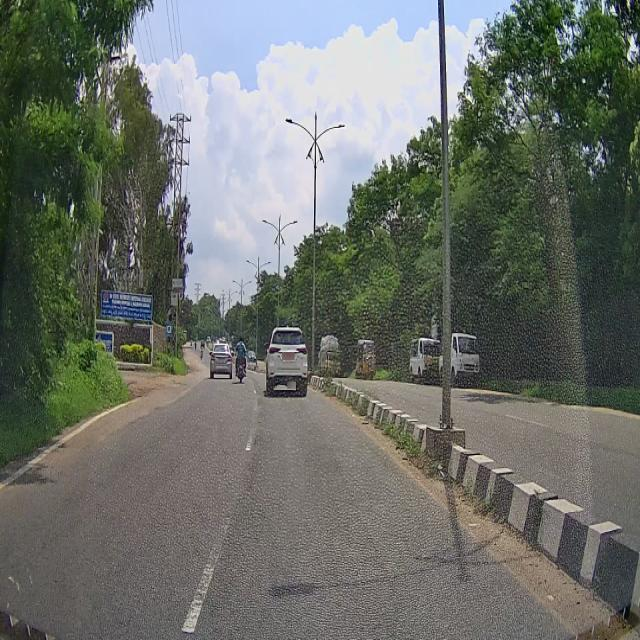car ahead at: (264, 317, 315, 411)
